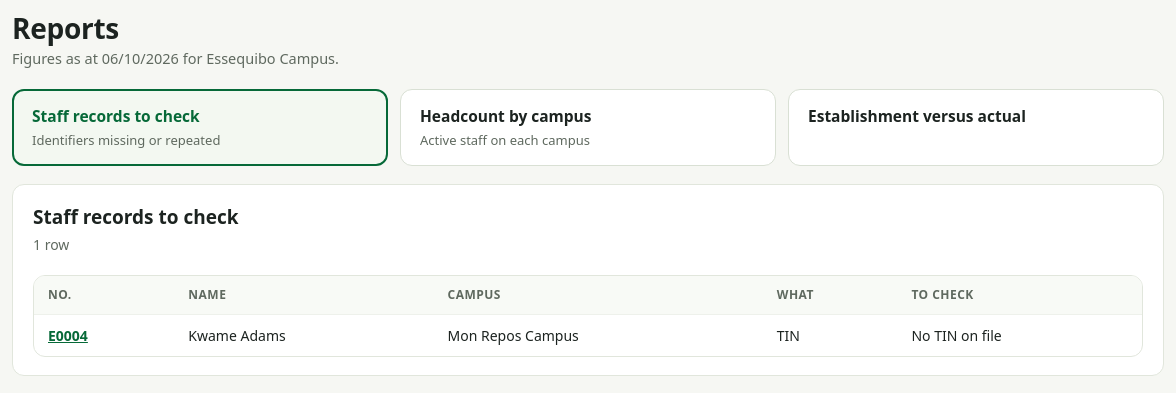
it: reports › offers each report as a card, runs the first, and runs another for the chosen campus
Check: the radio buttons read "Staff records to checkIdentifiers missing or repeated", "Headcount by campusActive staff on each campus", "Establishment versus actual", in this order, box left=12, top=89, right=388, bottom=166; left=400, top=89, right=776, bottom=166; left=788, top=89, right=1164, bottom=166
Check: the text "Figures as at 06/10/2026 for Essequibo Campus." is shown, box left=12, top=48, right=339, bottom=69
What coordinates should you click on to do the following:
click the link "E0004"
I would click on:
 (68, 335)
Its box is left=48, top=326, right=88, bottom=345.
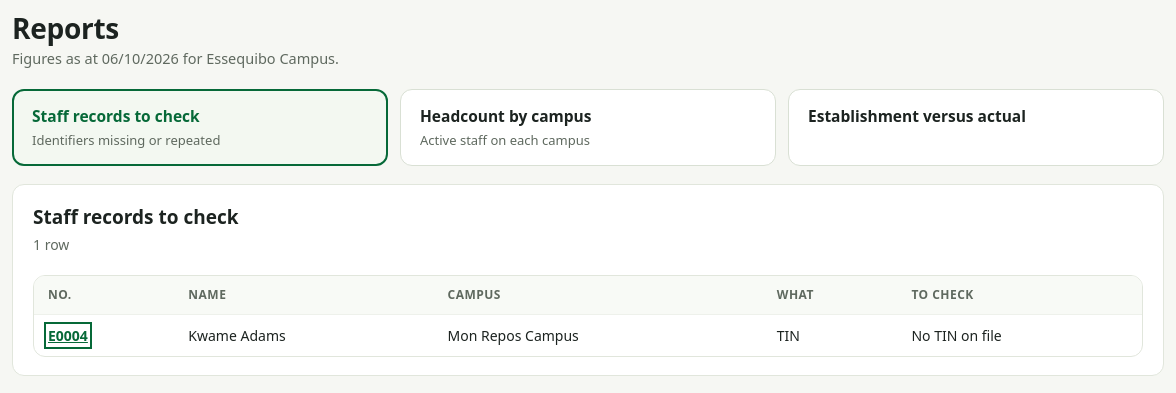
What coordinates should you click on to do the following:
click the radio button labelled "Headcount by campus Active staff on each campus"
I would click on:
 (588, 128)
Its box is left=400, top=89, right=776, bottom=166.
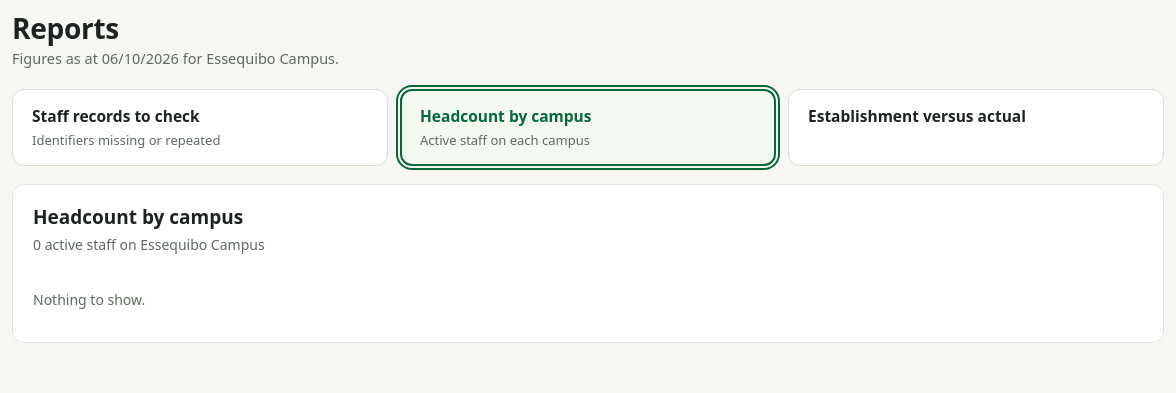
Check: the text "Nothing to show." is shown, box left=33, top=290, right=145, bottom=309
Check: the text "0 active staff on Essequibo Campus" is shown, box left=33, top=235, right=265, bottom=254
